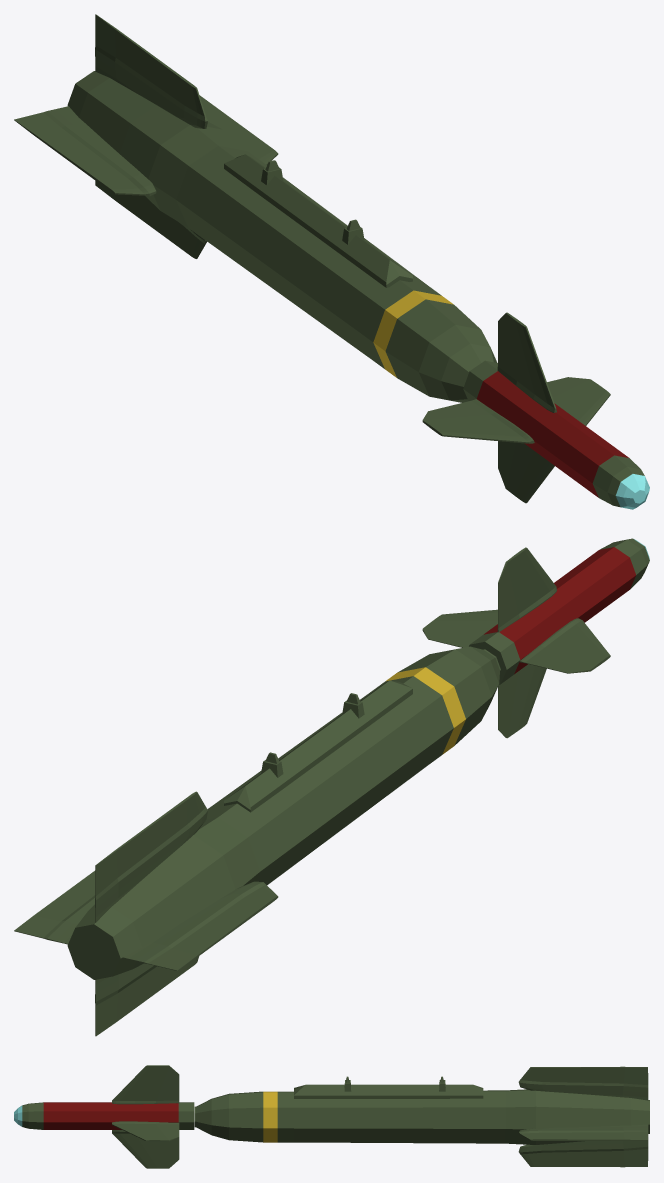
3 views of the same model, one above another, from view 1: azimuth 30°, elevation 25°; view 2: azimuth 150°, elevation 25°; view 3: azimuth 270°, elevation 25° (orthographic). The views are drawn at different scales.
Visible parts, largest first — view 1: gbu24; view 2: gbu24; view 3: gbu24.
Part boxes in pixels (x1,y1,x2,y2): gbu24: [14, 14, 649, 509]; gbu24: [14, 538, 649, 1036]; gbu24: [14, 1065, 649, 1168].
Bounding box in the file's own units: 0.587 × 0.587 × 3.3.
